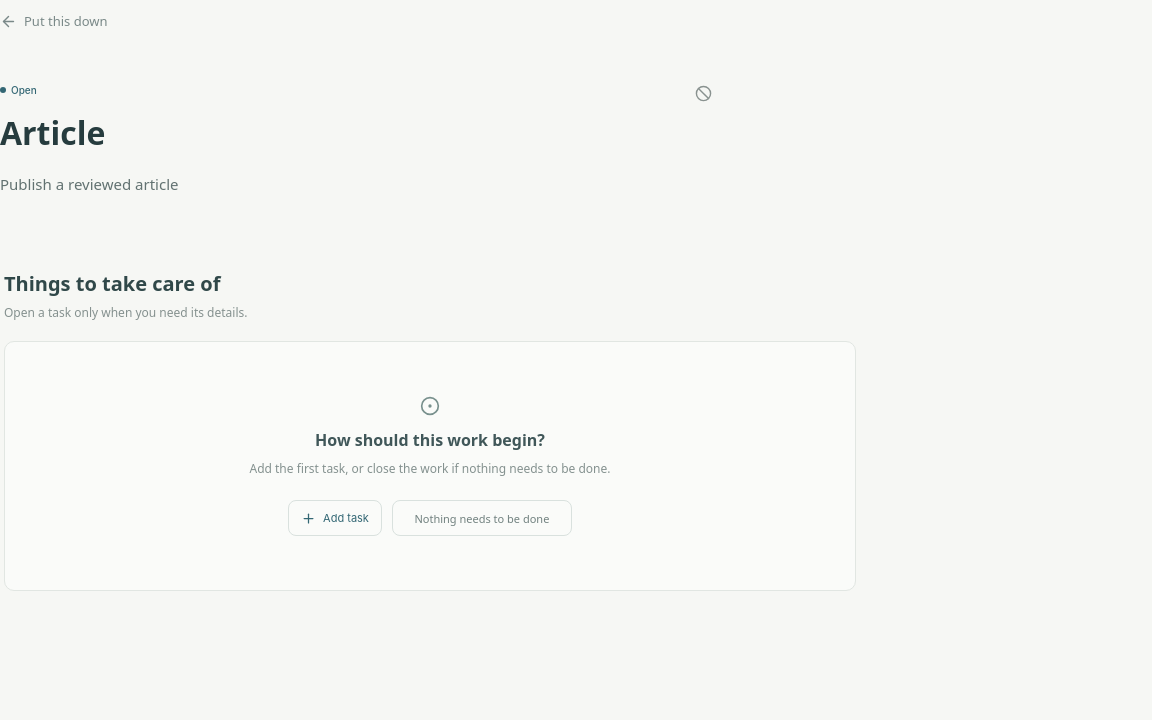
Test case: WorkItem lifecycle actions › keeps the cancellation reason when the request fails
Click the button named "Cancel WorkItem".
click(703, 93)  # box [686,76,720,110]
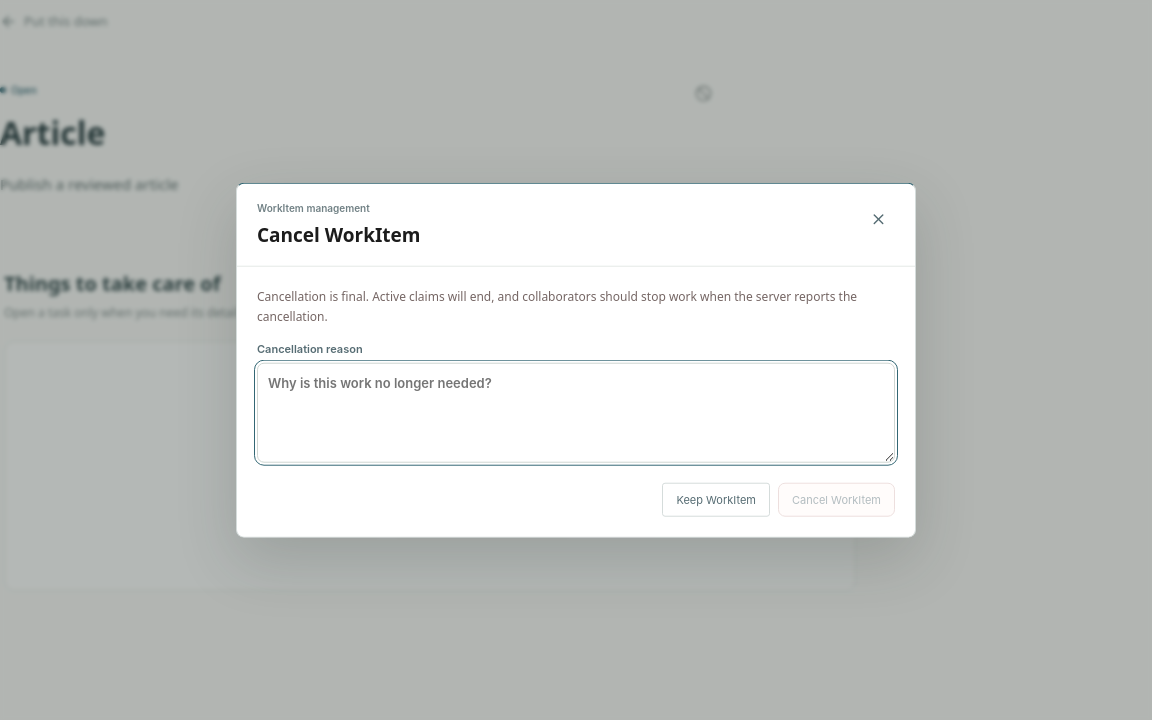
Type "Duplicate request" into the text box labelled "Cancellation reason".
click(576, 412); type("Duplicate request")  # box [257,362,895,462]
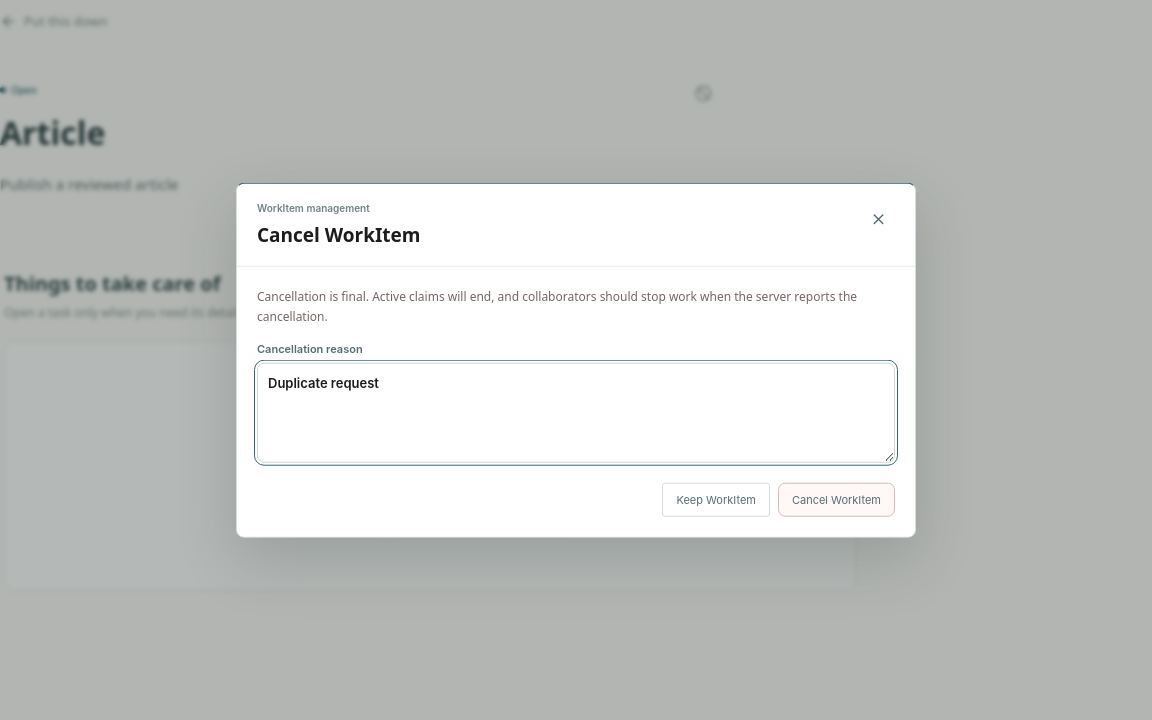
Click the button "Cancel WorkItem".
click(836, 499)  # box [778,482,895,516]
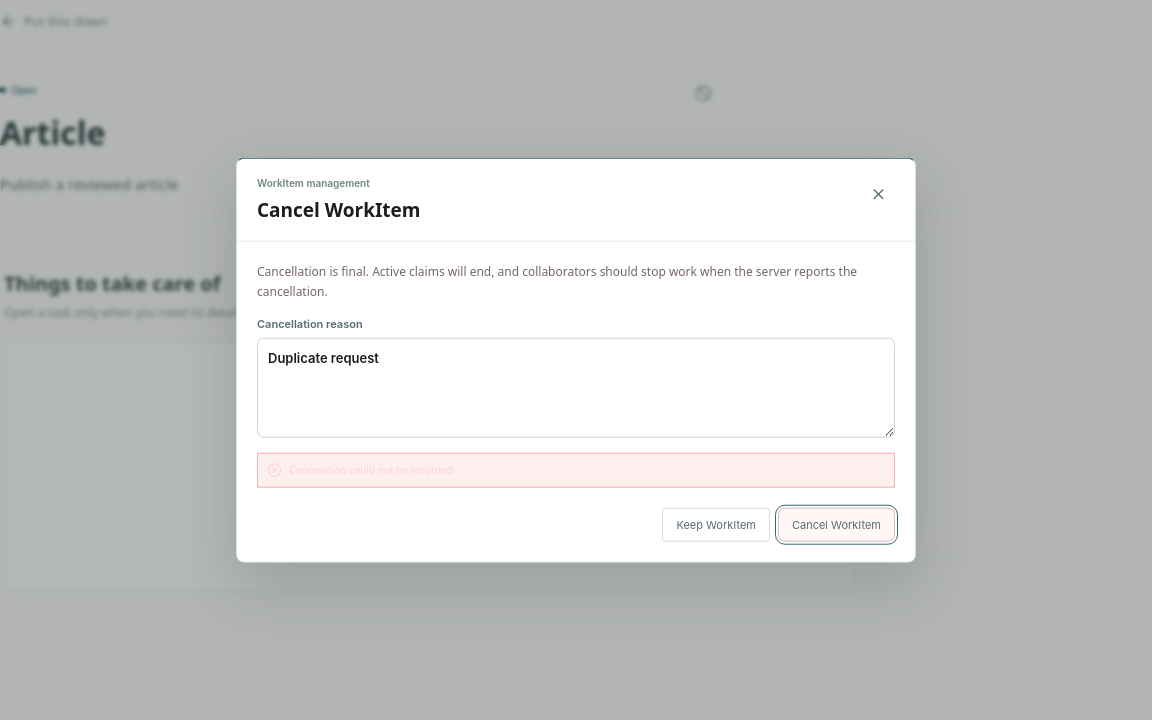
Expected: the text "Cancellation could not be recorded" is shown, [257,452,895,487]
